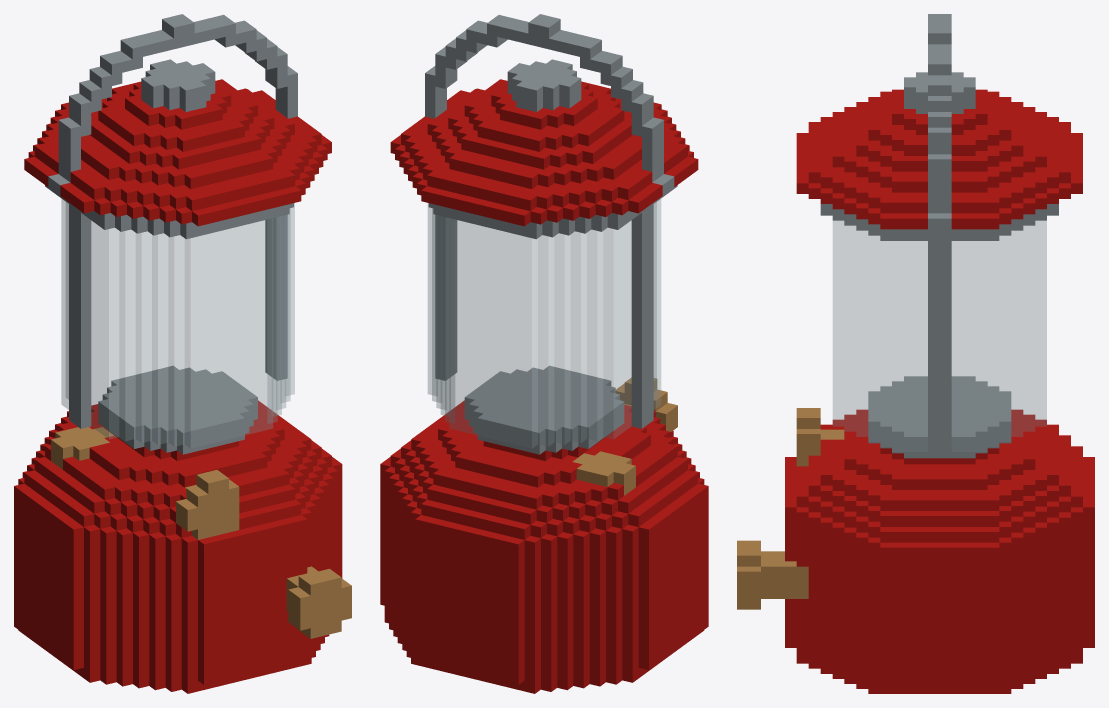
Rendered from gasoline_lantern.glb.
3 renders of one model, left to right at view 1: azimuth 30°, elevation 25°; view 2: azimuth 150°, elevation 25°; view 3: azimuth 270°, elevation 25°, orthographic.
Parts seen in each view (by area): view 1: gasoline_lantern:compound; view 2: gasoline_lantern:compound; view 3: gasoline_lantern:compound.
Boxes of the visible parts, x1,y1,x2,y2 form: gasoline_lantern:compound: (14,14,351,693); gasoline_lantern:compound: (380,14,708,693); gasoline_lantern:compound: (737,14,1094,693).
Size of the model in its own units: 0.104 by 0.224 by 0.12.
